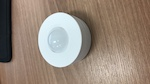bulb: (36, 11, 92, 68)
